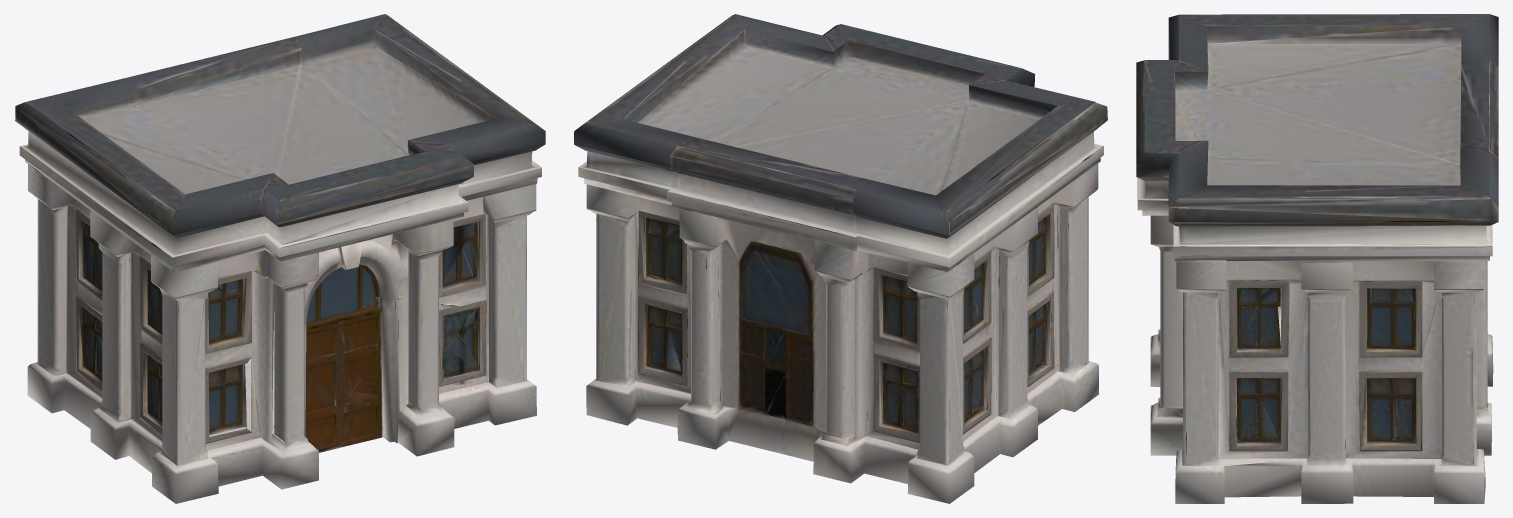
File: 18-bank-building.glb
3 renders of one model, left to right at view 1: azimuth 30°, elevation 25°; view 2: azimuth 150°, elevation 25°; view 3: azimuth 270°, elevation 25°, orthographic. The views are drawn at different scales.
Parts seen in each view (by area): view 1: geometry_0; view 2: geometry_0; view 3: geometry_0.
Part boxes in pixels (left/top/right/bottom): geometry_0: left=14, top=14, right=545, bottom=503; geometry_0: left=574, top=14, right=1107, bottom=503; geometry_0: left=1136, top=14, right=1498, bottom=503.
Size of the model in its own units: 0.9526 by 0.7123 by 0.7652.
Materials: 1 (1 with a texture image).
